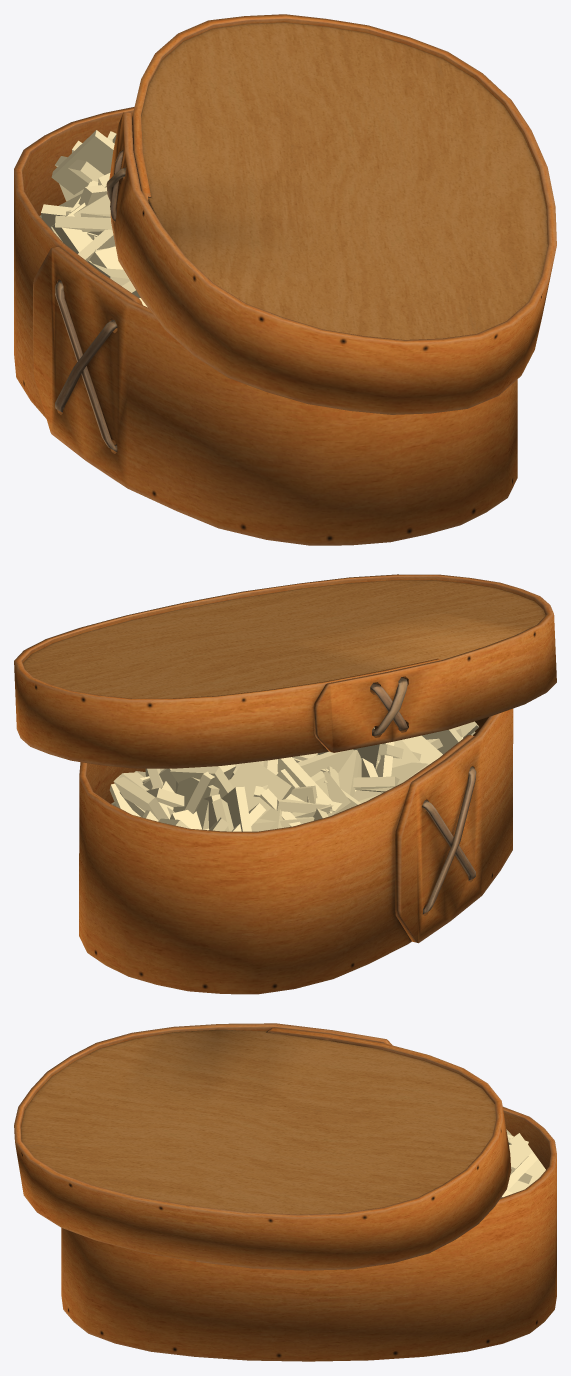
File: bentwood_box.glb
The picture shows the model from 3 angles, top to bottom: view 1: azimuth 30°, elevation 25°; view 2: azimuth 150°, elevation 25°; view 3: azimuth 270°, elevation 25°; orthographic projection. The views are drawn at different scales.
Parts seen in each view (by area): view 1: lid, bottom, Cube.053, Cube.131, Cube.086; view 2: lid, bottom, Cube.032, Cube.006, Cube.140, Cube.035, Cube.090, Cube.053, Cube.162, Cube.004, Cube.136, Cube.076 (+4 smaller); view 3: lid, bottom, Cube.065.
Part boxes in pixels (x1,y1,x2,y2): lid: (106,14,556,414); bottom: (14,107,517,545); Cube.053: (51,130,114,194); Cube.131: (55,215,112,230); Cube.086: (52,202,92,253); lid: (14,574,556,768); bottom: (79,708,513,994); Cube.032: (229,761,294,818); Cube.006: (297,749,380,777); Cube.140: (113,775,168,820); Cube.035: (173,777,219,829); Cube.090: (170,766,233,798); Cube.053: (221,786,251,831); Cube.162: (277,757,332,813); Cube.004: (184,764,236,813); Cube.136: (338,750,360,796); Cube.076: (402,735,442,764); lid: (14,1023,511,1270); bottom: (61,1106,556,1361); Cube.065: (508,1133,545,1193).
Size of the model in its own units: 1.29 by 0.7865 by 1.72.
2 materials, 1 textured.
